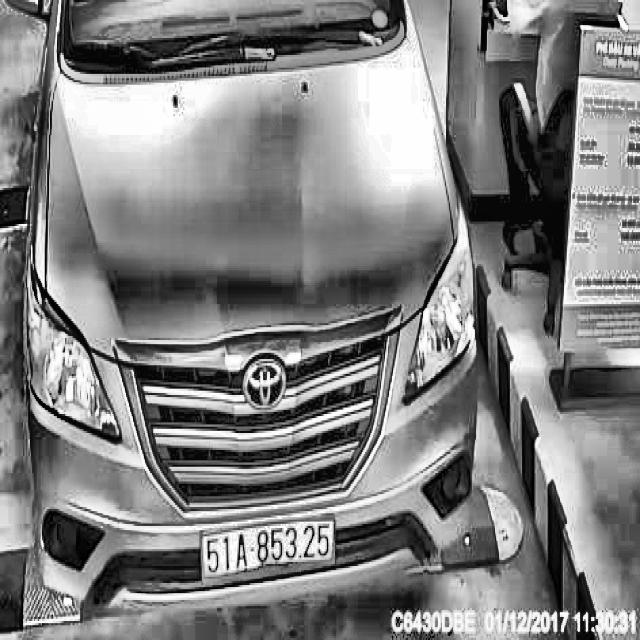plate: (196, 515, 340, 588)
